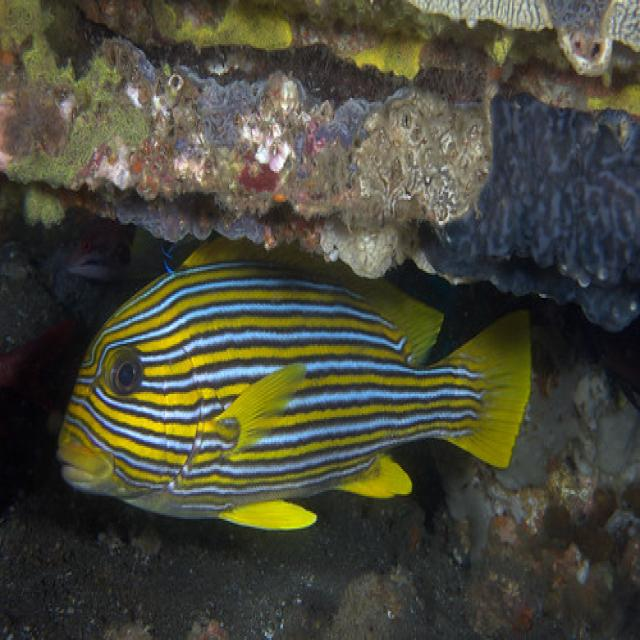RibbonedSweetlips: (54, 238, 534, 534)
